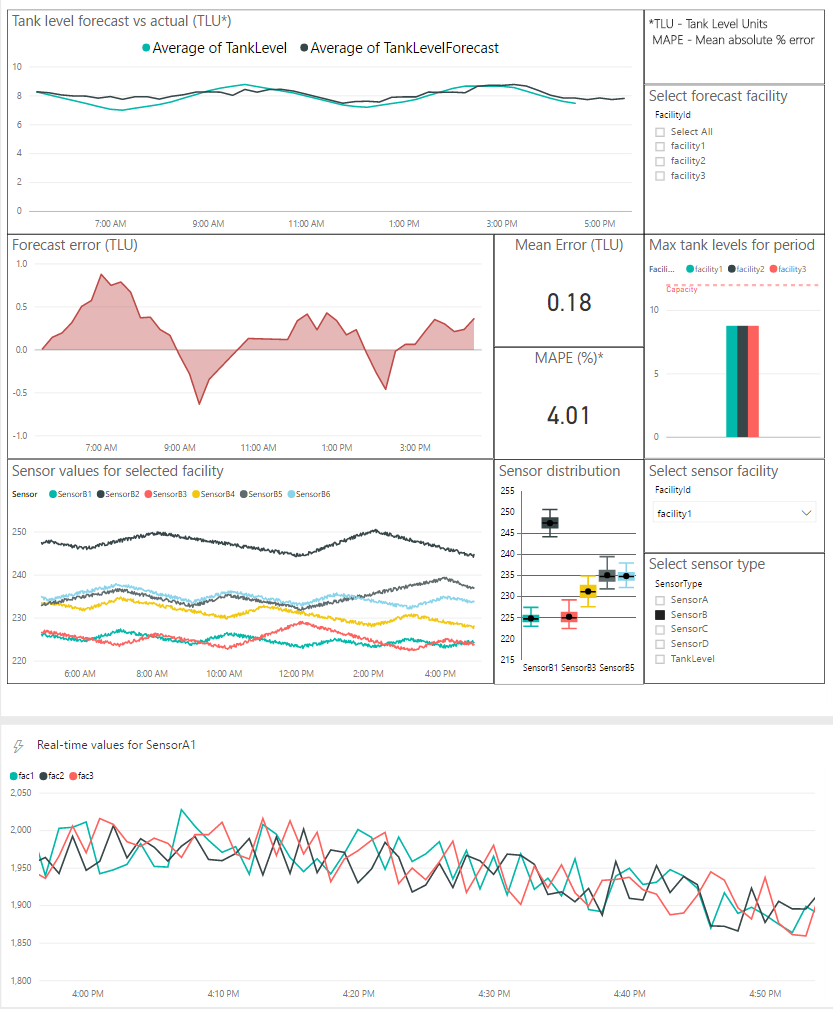

The dashboard page shown, as its layout file describes it:
{"tool":"powerbi","page":{"name":"Forecast Output","canvas":[1050,880],"ordinal":0},"visuals":[{"type":"areaChart","fields":{"Category":["TankLevelForecastPbi.Time"],"Y":["Avg(TankLevelForecastPbi.Error)"]},"box":[0,288,624,288],"z":3},{"type":"slicer","fields":{"Values":["TankLevelForecastPbi.FacilityId"]},"box":[816,96,232,192],"z":5},{"type":"textbox","box":[816,0,232,96],"z":6},{"type":"clusteredColumnChart","fields":{"Y":["Max(TankLevelForecastPbi.TankLevel)"],"Series":["TankLevelForecastPbi.FacilityId"]},"box":[816,288,232,288],"z":6},{"type":"lineChart","fields":{"Y":["Avg(TankLevelForecastPbi.TankLevel)","Avg(TankLevelForecastPbi.TankLevelForecast)"],"Category":["TankLevelForecastPbi.Time"]},"box":[0,0,816,288],"z":7},{"type":"card","fields":{"Values":["Avg(TankLevelForecastPbi.Error)"]},"box":[624,288,192,144],"z":7},{"type":"card","fields":{"Values":["Avg(TankLevelForecastPbi.AbsPctError)"]},"box":[624,432,192,144],"z":8},{"type":"BoxWhiskerChart1455240051538","fields":{"Groups":["TankLevelSensorPbi.Sensor"],"Values":["Avg(TankLevelSensorPbi.Value)"],"Samples":["TankLevelSensorPbi.Time"]},"box":[624,576,192,288],"z":8},{"type":"lineChart","fields":{"Series":["TankLevelSensorPbi.Sensor"],"Category":["TankLevelSensorPbi.Time"],"Y":["Avg(TankLevelSensorPbi.Value)"]},"box":[0,576,624,288],"z":9},{"type":"slicer","fields":{"Values":["TankLevelSensorPbi.FacilityId"]},"box":[816,576,232,120],"z":10},{"type":"slicer","fields":{"Values":["TankLevelSensorPbi.SensorType"]},"box":[816,696,232,168],"z":11}]}

Visuals, with their boxes in screenshot pixels (x1, y1, x2, y2):
areaChart - TankLevelForecastPbi.Time x Avg(TankLevelForecastPbi.Error): [3,231,491,456]
slicer - TankLevelForecastPbi.FacilityId: [641,80,823,231]
textbox: [641,5,823,80]
clusteredColumnChart - Max(TankLevelForecastPbi.TankLevel) x TankLevelForecastPbi.FacilityId: [641,231,823,456]
lineChart - Avg(TankLevelForecastPbi.TankLevel) x Avg(TankLevelForecastPbi.TankLevelForecast): [3,5,641,231]
card - Avg(TankLevelForecastPbi.Error): [491,231,641,343]
card - Avg(TankLevelForecastPbi.AbsPctError): [491,343,641,456]
BoxWhiskerChart1455240051538 - TankLevelSensorPbi.Sensor x Avg(TankLevelSensorPbi.Value): [491,456,641,681]
lineChart - TankLevelSensorPbi.Sensor x TankLevelSensorPbi.Time: [3,456,491,681]
slicer - TankLevelSensorPbi.FacilityId: [641,456,823,550]
slicer - TankLevelSensorPbi.SensorType: [641,550,823,681]
